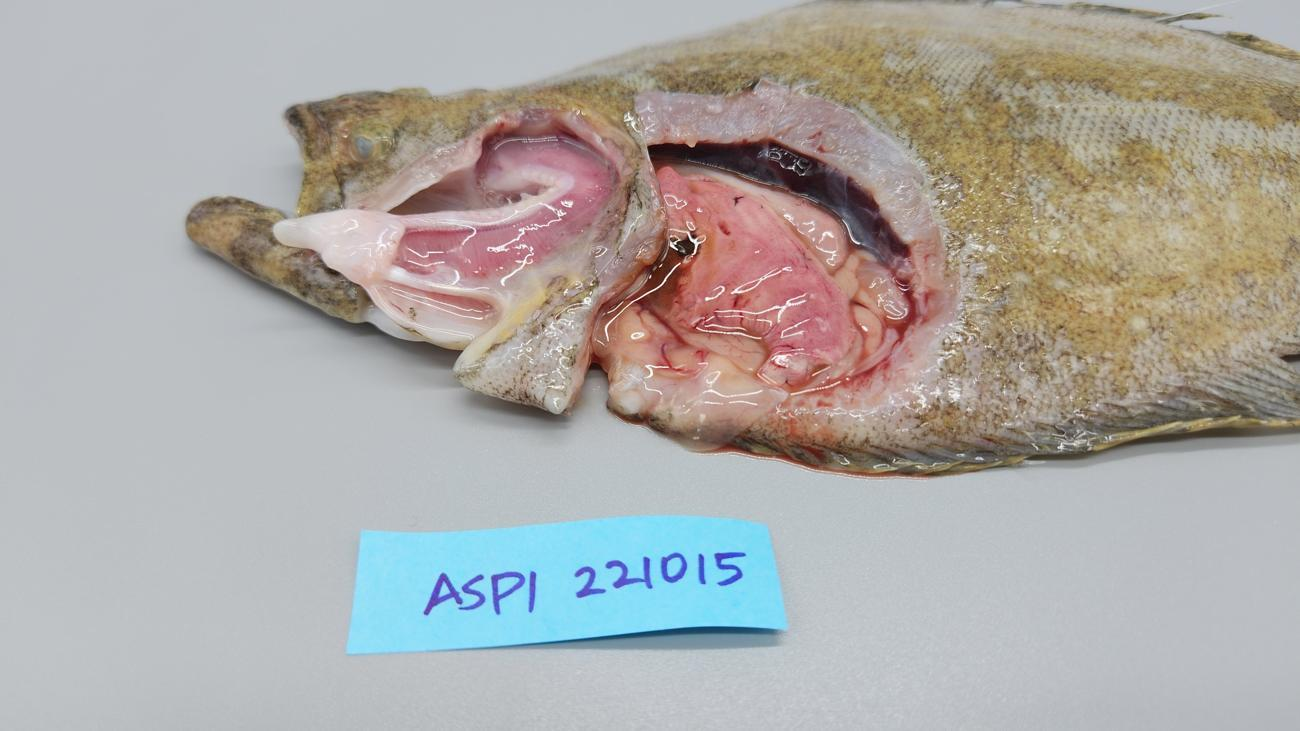SPGIP: (395, 135, 613, 278)
